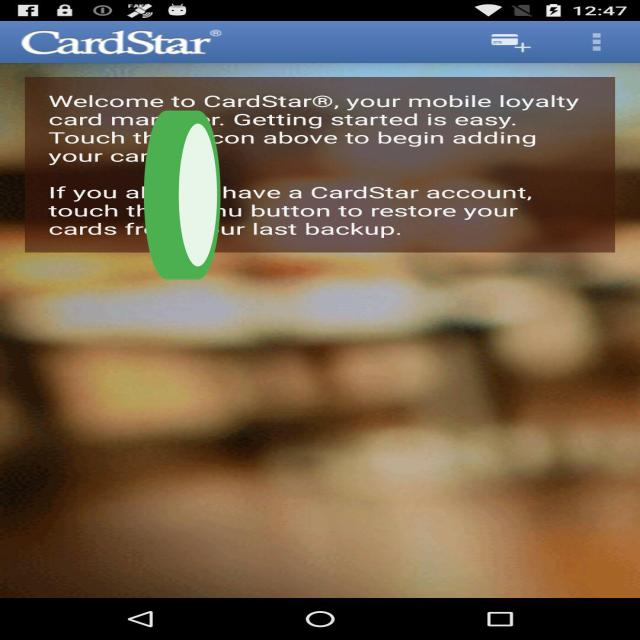social proof: (140, 46, 224, 357)
